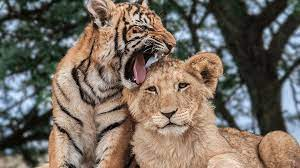lion: (123, 47, 298, 168)
tiger: (45, 1, 177, 164)
